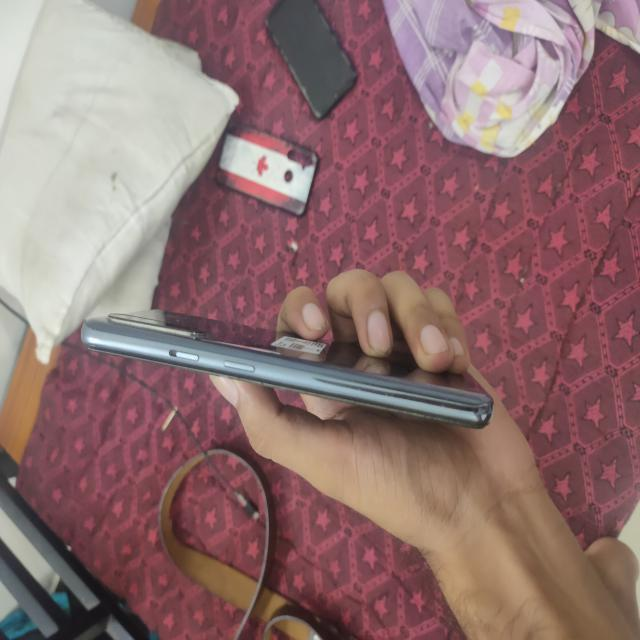Phone: (78, 299, 497, 429), (262, 0, 362, 121), (209, 120, 322, 220)
